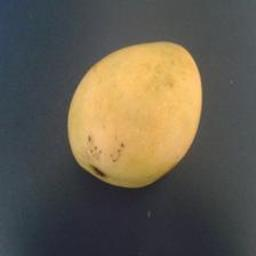Mango Fresh: (52, 23, 207, 195)
